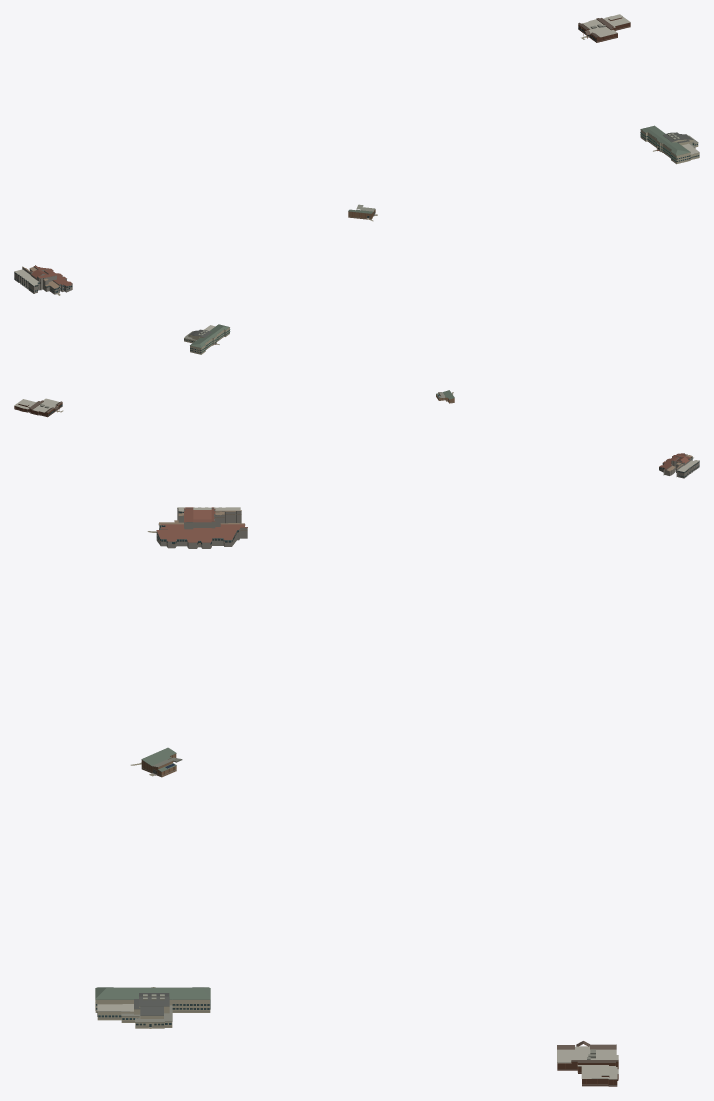
The model's file is site.glb.
3 renders of one model, top to bottom at view 1: azimuth 30°, elevation 25°; view 2: azimuth 150°, elevation 25°; view 3: azimuth 270°, elevation 25°, orthographic. The views are drawn at different scales.
Visible parts, largest first — view 1: roof-b068940e, roof-c1ff8b83, roof-e11ec58d; view 2: roof-b068940e, roof-c1ff8b83, roof-e11ec58d; view 3: roof-b068940e, roof-c1ff8b83, roof-e11ec58d.
Part boxes in pixels (<box>): roof-b068940e: <box>640,125,699,164</box>; roof-c1ff8b83: <box>14,265,72,294</box>; roof-e11ec58d: <box>578,14,630,42</box>; roof-b068940e: <box>184,324,230,354</box>; roof-c1ff8b83: <box>659,453,699,478</box>; roof-e11ec58d: <box>14,398,62,417</box>; roof-b068940e: <box>95,987,210,1028</box>; roof-c1ff8b83: <box>156,507,247,548</box>; roof-e11ec58d: <box>557,1041,618,1086</box>.
Bounding box in the file's own units: 943 × 20.1 × 371.
